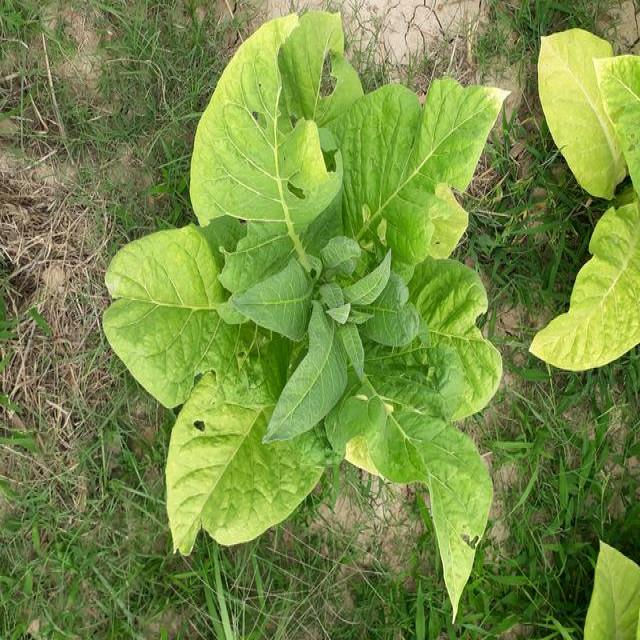crop: (105, 4, 471, 601), (494, 3, 640, 362), (586, 530, 640, 638)
